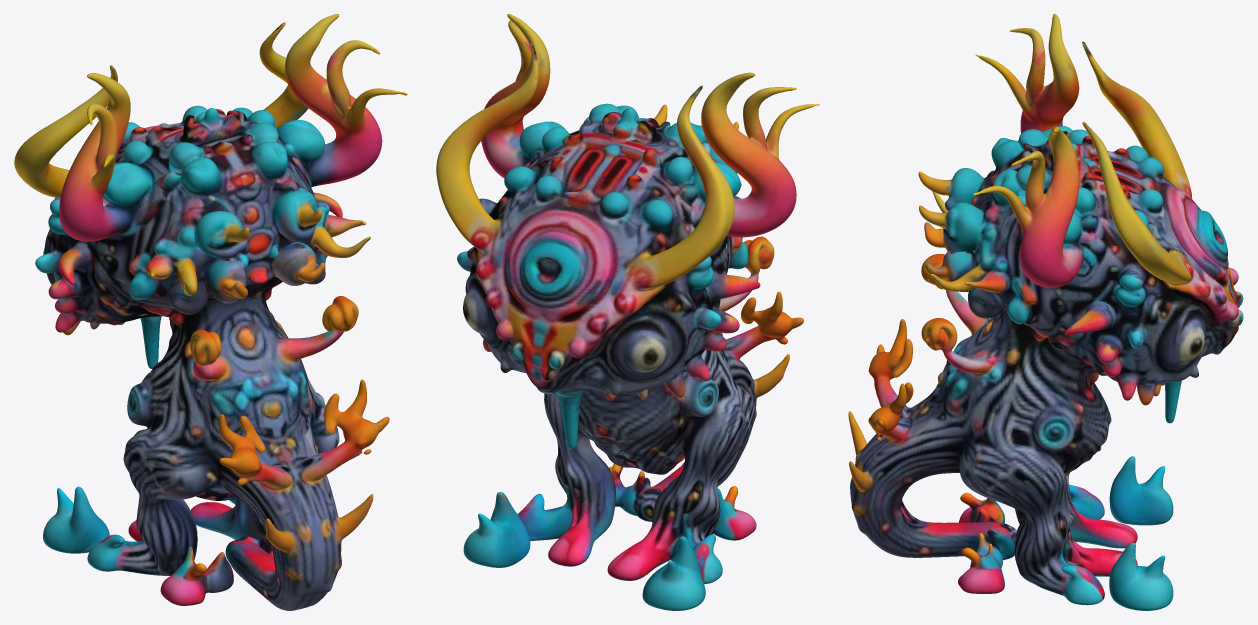
File: tripo3-transformed.glb
3 views of the same model, side by side, from view 1: azimuth 30°, elevation 25°; view 2: azimuth 150°, elevation 25°; view 3: azimuth 270°, elevation 25° (orthographic). The views are drawn at different scales.
Parts seen in each view (by area): view 1: tripo_node_8daeafd4-b61b-4a05-af54-1987b972f516; view 2: tripo_node_8daeafd4-b61b-4a05-af54-1987b972f516; view 3: tripo_node_8daeafd4-b61b-4a05-af54-1987b972f516.
Boxes of the visible parts, bbox=[...] form: tripo_node_8daeafd4-b61b-4a05-af54-1987b972f516: bbox=[14, 14, 407, 610]; tripo_node_8daeafd4-b61b-4a05-af54-1987b972f516: bbox=[436, 14, 819, 610]; tripo_node_8daeafd4-b61b-4a05-af54-1987b972f516: bbox=[848, 14, 1243, 610].
Size of the model in its own units: 0.6164 by 0.9502 by 0.6997.
1 material, 1 textured.
